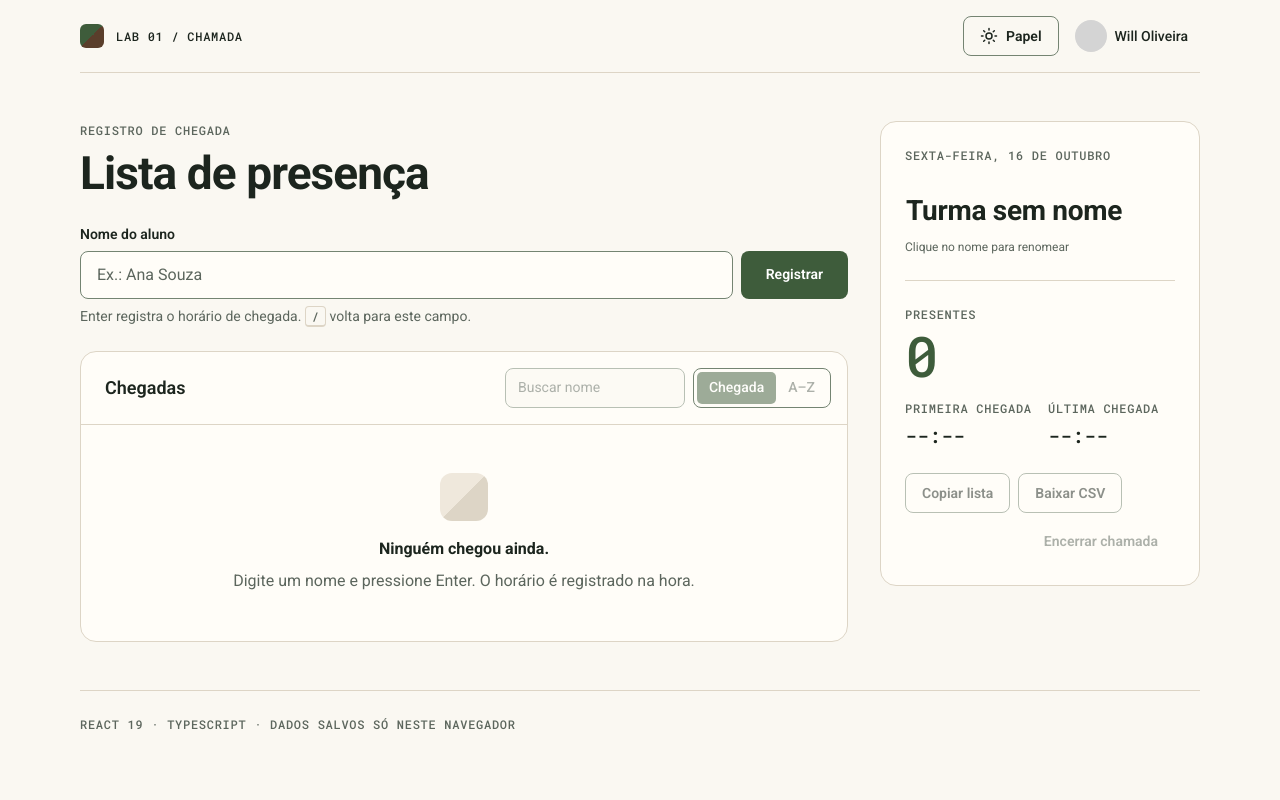
Test case: Lista de presença › recusa nome vazio com erro ligado ao campo
The width and height of the screenshot is (1280, 800).
Click the button "Registrar".
click(794, 275)  # box [741,251,848,299]
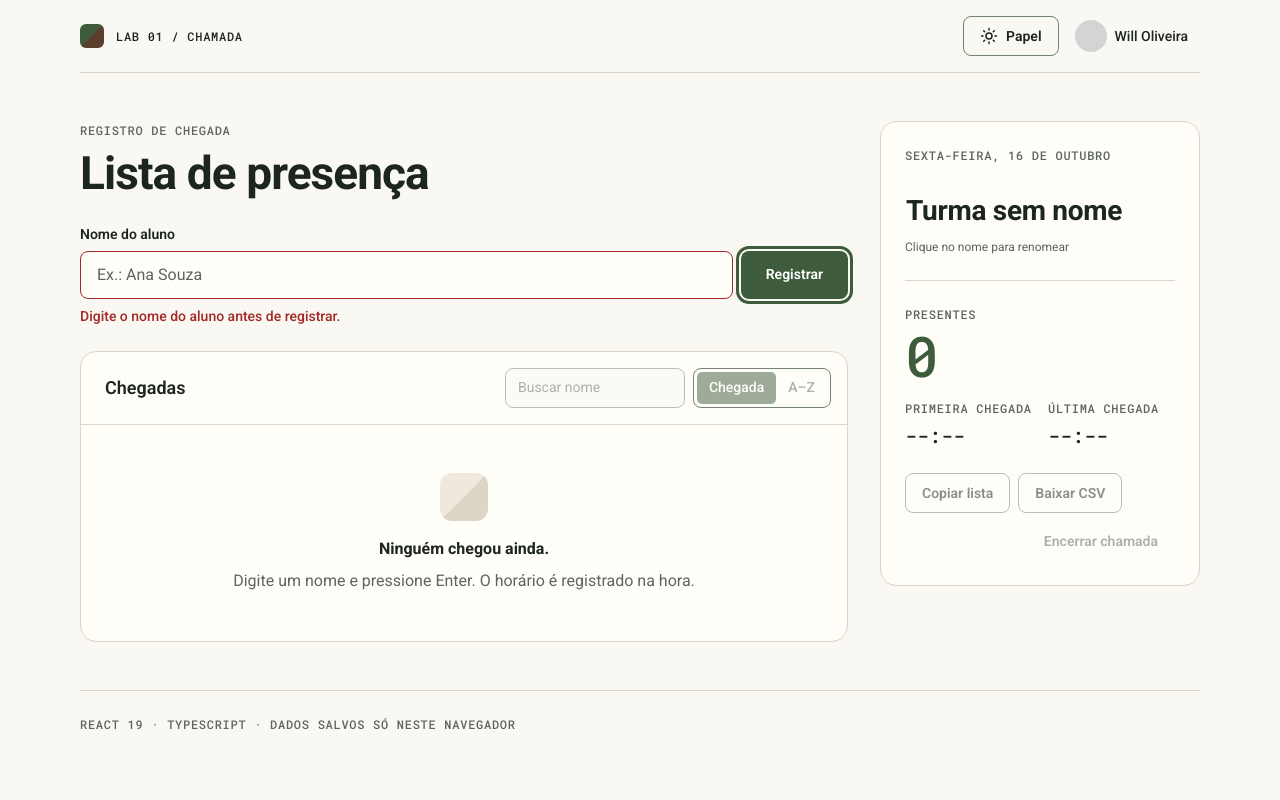
Check: the message shows "Digite o nome do aluno", box [80,308,340,324]
